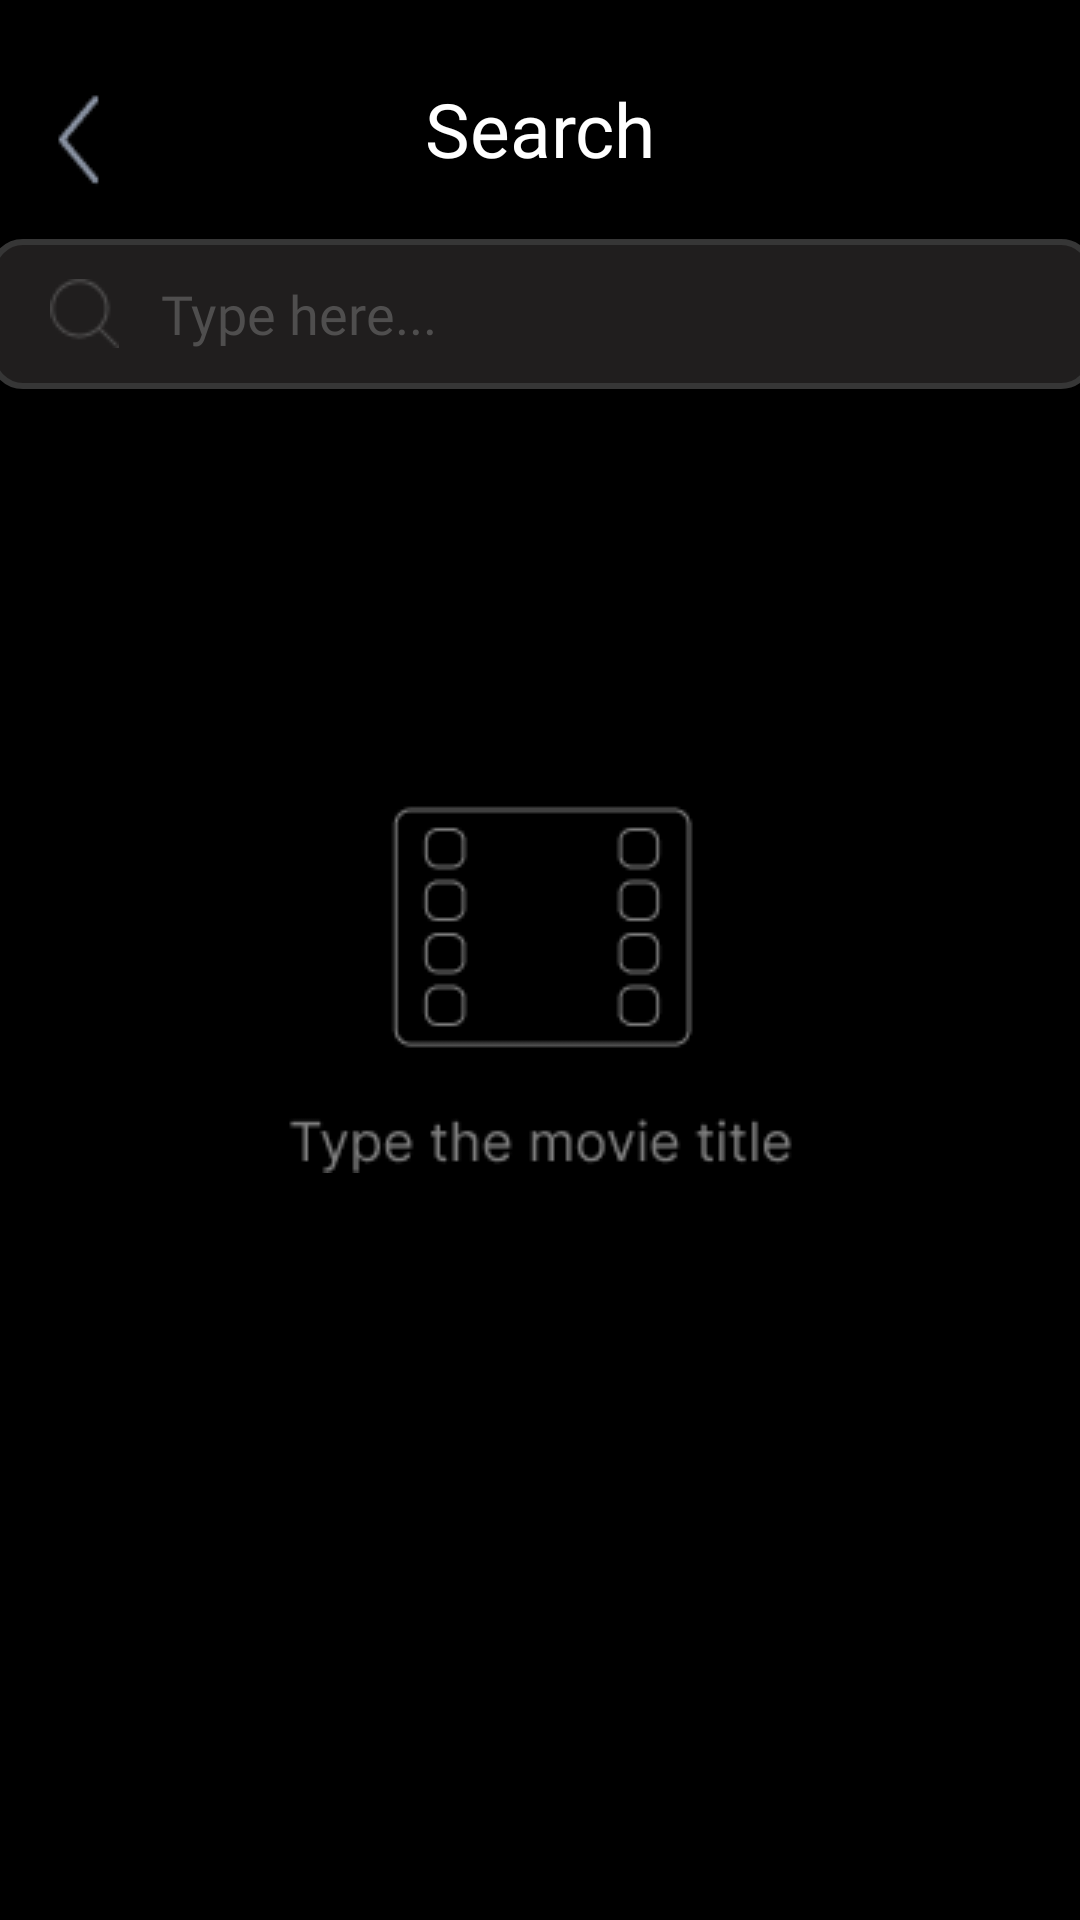

Point at icon controls on the screen. Image size 1080w x 1920h, points as (x,y).
backbutton: (78,139)
